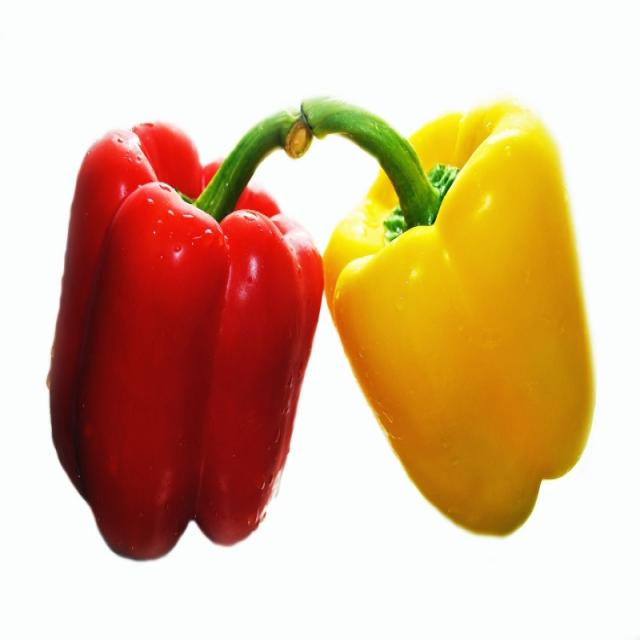Bell pepper: (302, 57, 598, 593), (32, 81, 327, 585)
